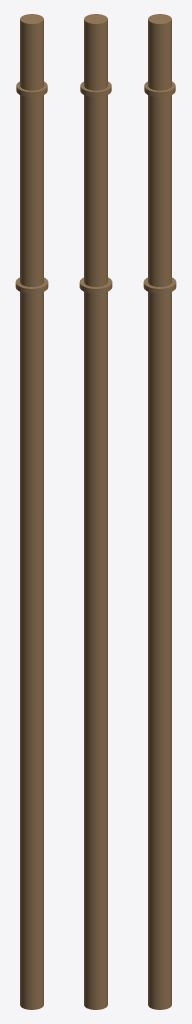
Rendered from Blowpipe.fbx.
3 views of the same model, side by side, from view 1: azimuth 90°, elevation 25°; view 2: azimuth 150°, elevation 25°; view 3: azimuth 270°, elevation 25° (orthographic).
Parts seen in each view (by area): view 1: Blowpipe; view 2: Blowpipe; view 3: Blowpipe.
Boxes of the visible parts, x1=… form: Blowpipe: x1=15, y1=14, x2=48, y2=1009; Blowpipe: x1=79, y1=14, x2=112, y2=1009; Blowpipe: x1=143, y1=14, x2=176, y2=1009.
Size of the model in its own units: 2.75 by 91 by 2.75.
